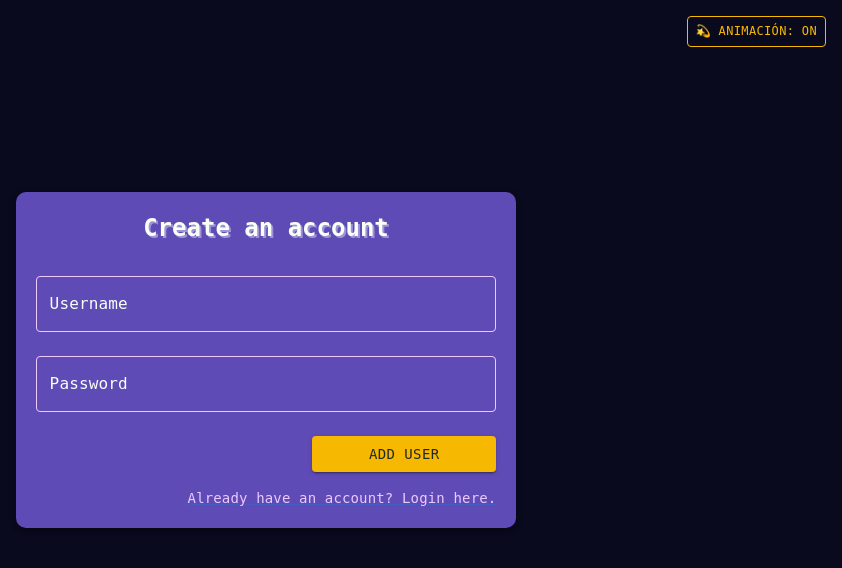
Test: AddUser component › should show validation error when fields are empty
Click the button "Add User". click: click(404, 454)
box: [312,436,496,472]
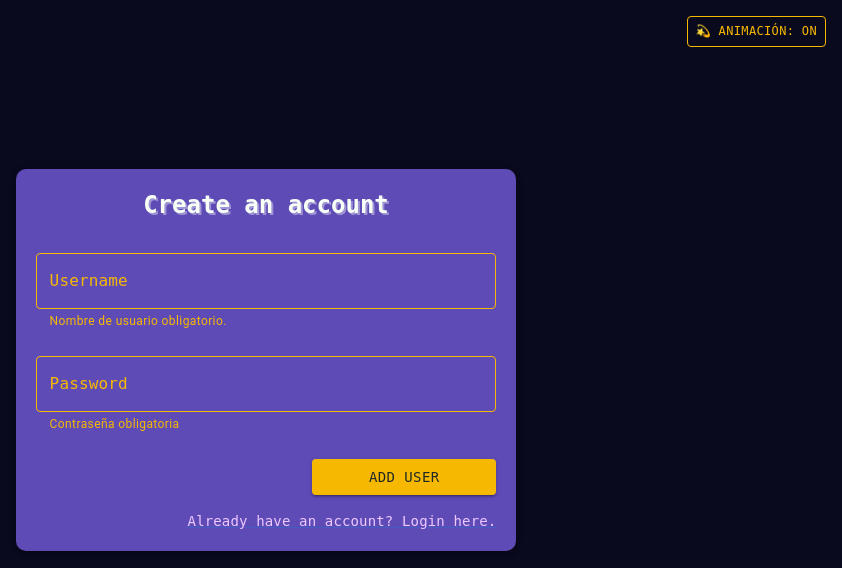
Now the text "Nombre de usuario obligatorio." is shown, box [50,314,227,328]
Now the text "Contraseña obligatoria" is shown, box [50,417,180,431]
